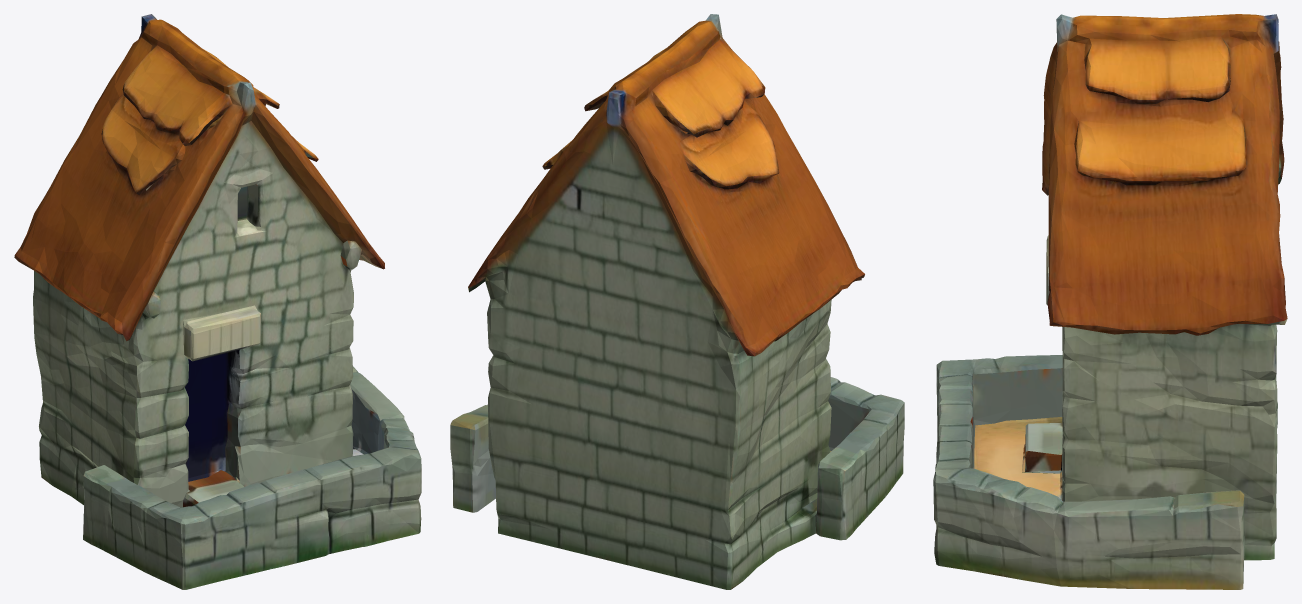
The model's file is tawantinsuyu_casa.glb.
3 views of the same model, side by side, from view 1: azimuth 30°, elevation 25°; view 2: azimuth 150°, elevation 25°; view 3: azimuth 270°, elevation 25° (orthographic). The views are drawn at different scales.
Parts seen in each view (by area): view 1: geometry_0; view 2: geometry_0; view 3: geometry_0.
Part boxes in pixels (x1,y1,x2,y2): geometry_0: (14, 14, 421, 589); geometry_0: (450, 14, 904, 589); geometry_0: (933, 14, 1287, 589).
Size of the model in its own units: 1.4 by 1.9 by 1.25.
1 material, 1 textured.
